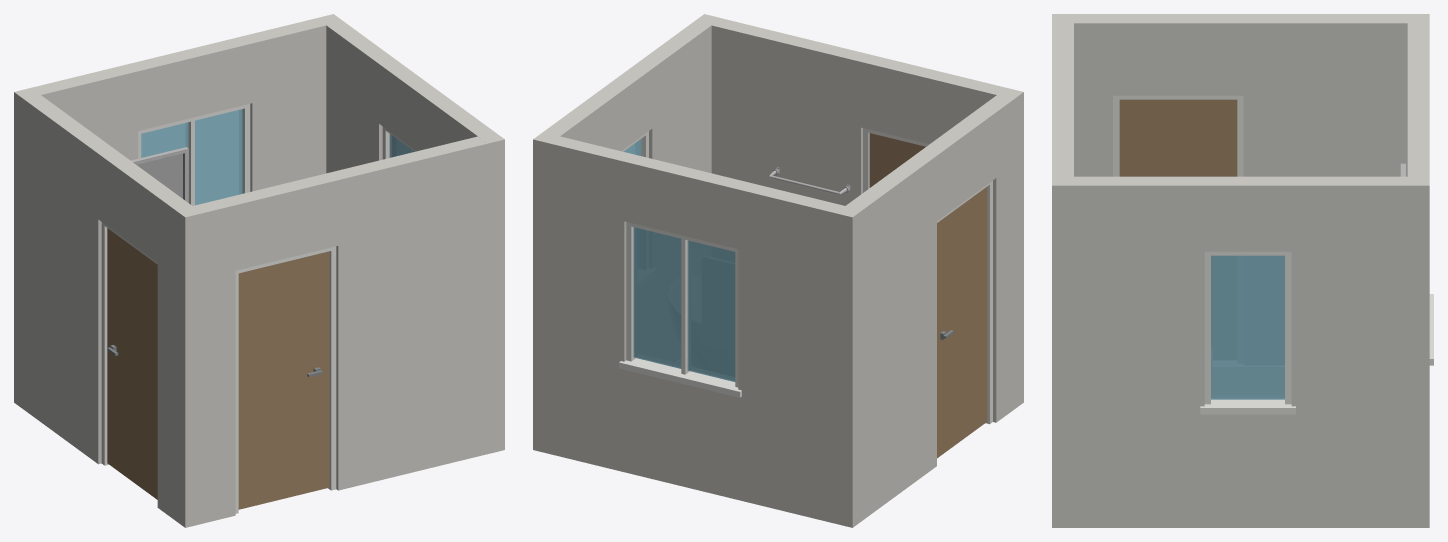
File: holodeck.glb
3 views of the same model, side by side, from view 1: azimuth 30°, elevation 25°; view 2: azimuth 150°, elevation 25°; view 3: azimuth 270°, elevation 25° (orthographic). The views are drawn at different scales.
Visible parts, largest first — view 1: wall|scenesmith_100__R00|0, wall|scenesmith_100__R00|2, wall|scenesmith_100__R00|1, wall|scenesmith_100__R00|0 Door 0 | wood leaf, wall|scenesmith_100__R00|3, wall|scenesmith_100__R00|2 Door 0 | wood leaf, wall|scenesmith_100__R00|1 Window 0 | glazing, wall|scenesmith_100__R00|0 Door 0 | jamb, wall|scenesmith_100__R00|1 Window 0 | jamb, wall|scenesmith_100__R00|2 Door 0 | jamb, scenesmith_100__R00_4; view 2: wall|scenesmith_100__R00|1, wall|scenesmith_100__R00|2, wall|scenesmith_100__R00|0, wall|scenesmith_100__R00|3, wall|scenesmith_100__R00|1 Window 0 | glazing, wall|scenesmith_100__R00|2 Door 0 | wood leaf, wall|scenesmith_100__R00|1 Window 0 | jamb, wall|scenesmith_100__R00|0 Door 0 | wood leaf, wall|scenesmith_100__R00|2 Door 0 | jamb, wall|scenesmith_100__R00|0 Door 0 | jamb; view 3: wall|scenesmith_100__R00|3, wall|scenesmith_100__R00|2, wall|scenesmith_100__R00|1, wall|scenesmith_100__R00|0, wall|scenesmith_100__R00|3 Window 0 | glazing, wall|scenesmith_100__R00|2 Door 0 | wood leaf, wall|scenesmith_100__R00|3 Window 0 | jamb, wall|scenesmith_100__R00|2 Door 0 | jamb.
Part boxes in pixels (x1,y1,x2,y2): wall|scenesmith_100__R00|0: (175,136,487,527); wall|scenesmith_100__R00|2: (24,95,202,527); wall|scenesmith_100__R00|1: (14,14,341,409); wall|scenesmith_100__R00|0 Door 0 | wood leaf: (238,251,329,509); wall|scenesmith_100__R00|3: (317,14,504,453); wall|scenesmith_100__R00|2 Door 0 | wood leaf: (107,228,157,499); wall|scenesmith_100__R00|1 Window 0 | glazing: (141,109,242,205); wall|scenesmith_100__R00|0 Door 0 | jamb: (235,246,336,513); wall|scenesmith_100__R00|1 Window 0 | jamb: (138,104,250,205); wall|scenesmith_100__R00|2 Door 0 | jamb: (101,222,157,465); scenesmith_100__R00_4: (131,147,188,202); wall|scenesmith_100__R00|1: (533,132,862,527); wall|scenesmith_100__R00|2: (835,88,1023,527); wall|scenesmith_100__R00|0: (711,18,1023,409); wall|scenesmith_100__R00|3: (533,14,720,453); wall|scenesmith_100__R00|1 Window 0 | glazing: (633,227,735,381); wall|scenesmith_100__R00|2 Door 0 | wood leaf: (937,187,987,458); wall|scenesmith_100__R00|1 Window 0 | jamb: (619,222,741,397); wall|scenesmith_100__R00|0 Door 0 | wood leaf: (869,133,925,187); wall|scenesmith_100__R00|2 Door 0 | jamb: (937,180,992,424); wall|scenesmith_100__R00|0 Door 0 | jamb: (863,128,928,192); wall|scenesmith_100__R00|3: (1052,176,1429,527); wall|scenesmith_100__R00|2: (1052,14,1407,176); wall|scenesmith_100__R00|1: (1407,14,1429,527); wall|scenesmith_100__R00|0: (1052,23,1073,527); wall|scenesmith_100__R00|3 Window 0 | glazing: (1211,255,1284,399); wall|scenesmith_100__R00|2 Door 0 | wood leaf: (1119,99,1237,176); wall|scenesmith_100__R00|3 Window 0 | jamb: (1200,251,1295,414); wall|scenesmith_100__R00|2 Door 0 | jamb: (1113,95,1243,176).
Size of the model in its own units: 2.83 by 2.61 by 2.63.
12 materials, 6 textured.
